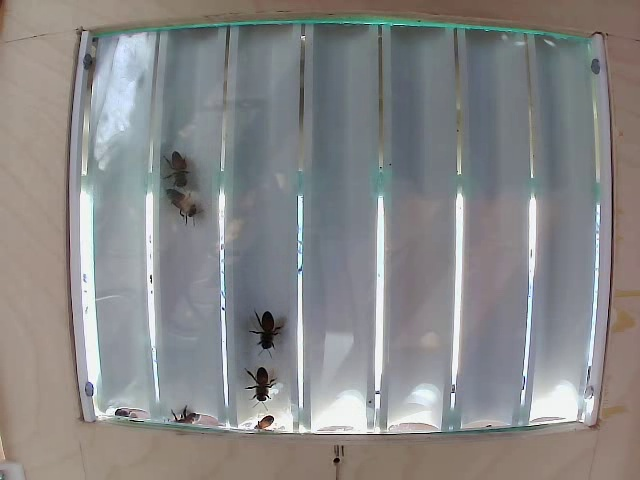bee: (251, 311, 291, 354), (161, 176, 205, 215), (156, 152, 199, 185), (246, 374, 276, 405)
